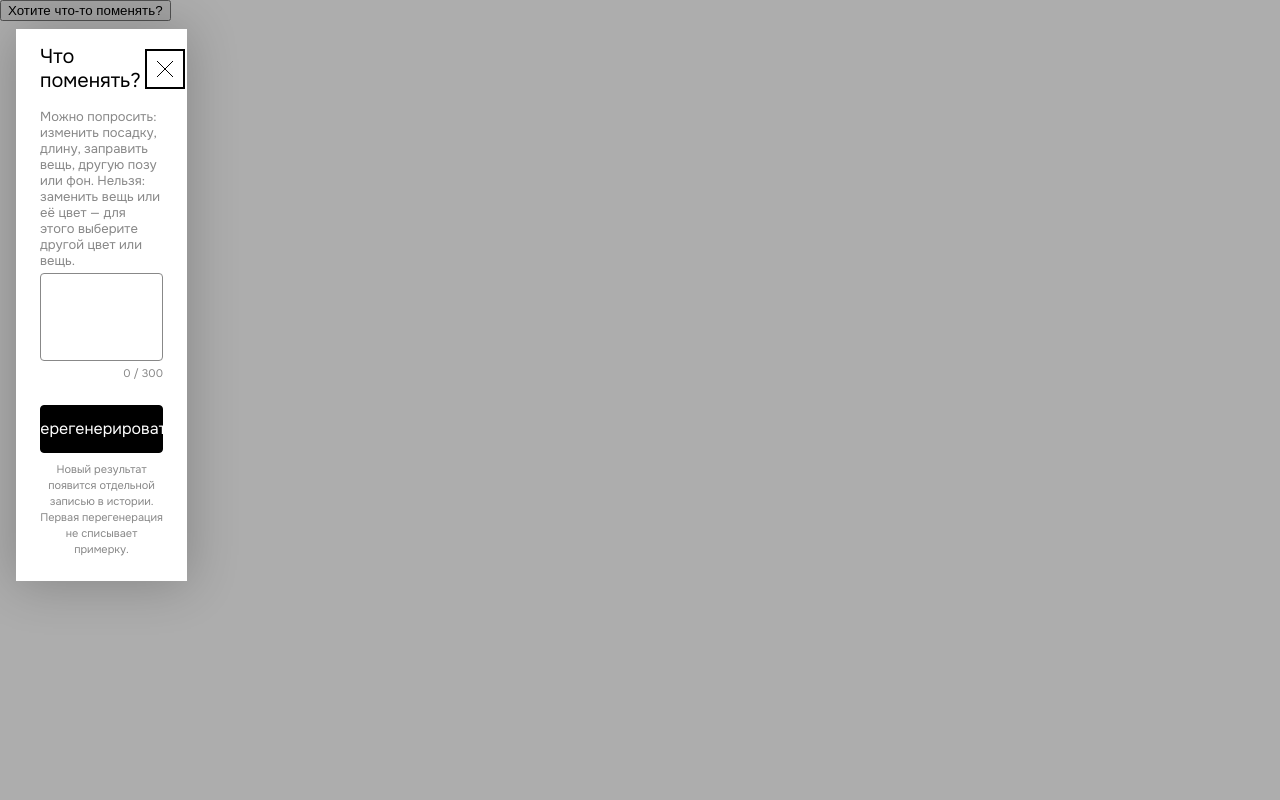
Scenario: RegeneratePopover › shows the reason of a refused comment (P27)
The image size is (1280, 800).
Type "добавь друга" into the text box named "Что поменять".
click(102, 317); type("добавь друга")  # box [40,273,163,361]
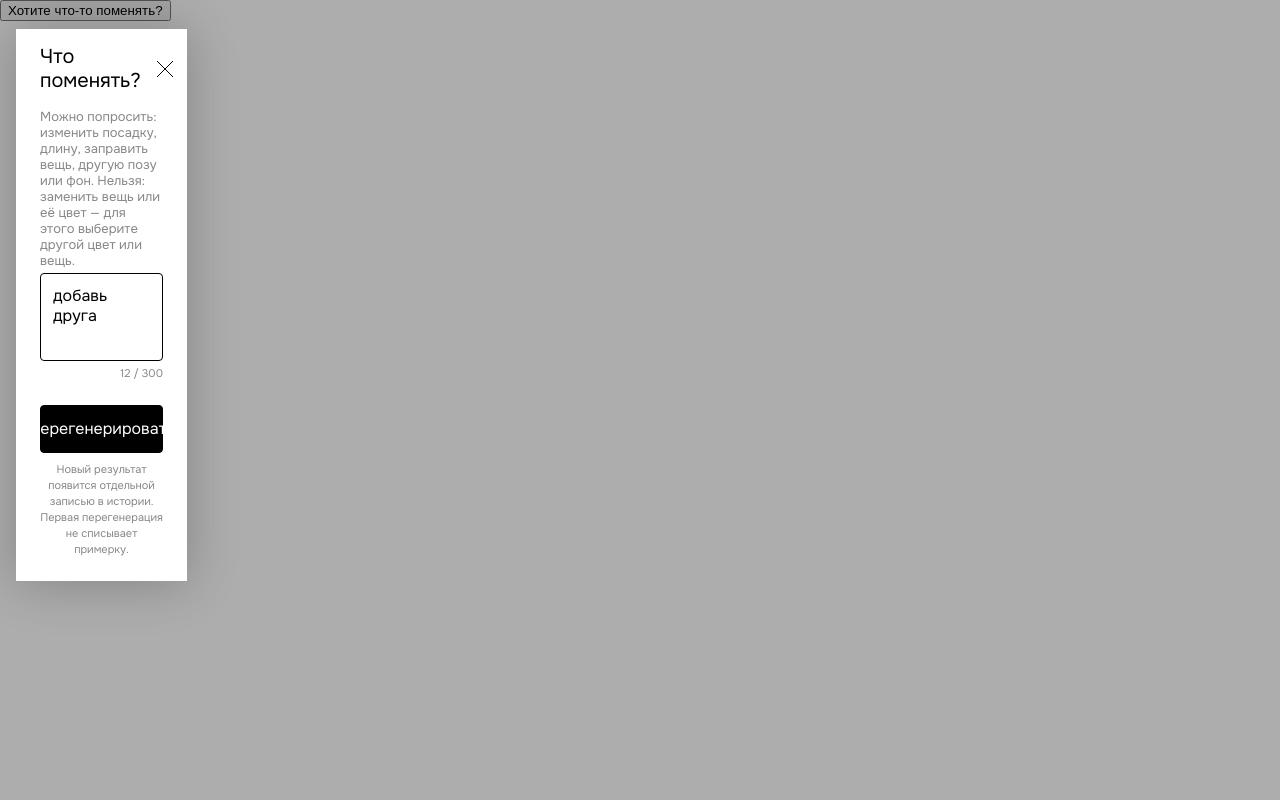
Click the button "Перегенерировать".
click(102, 429)  # box [40,405,163,453]
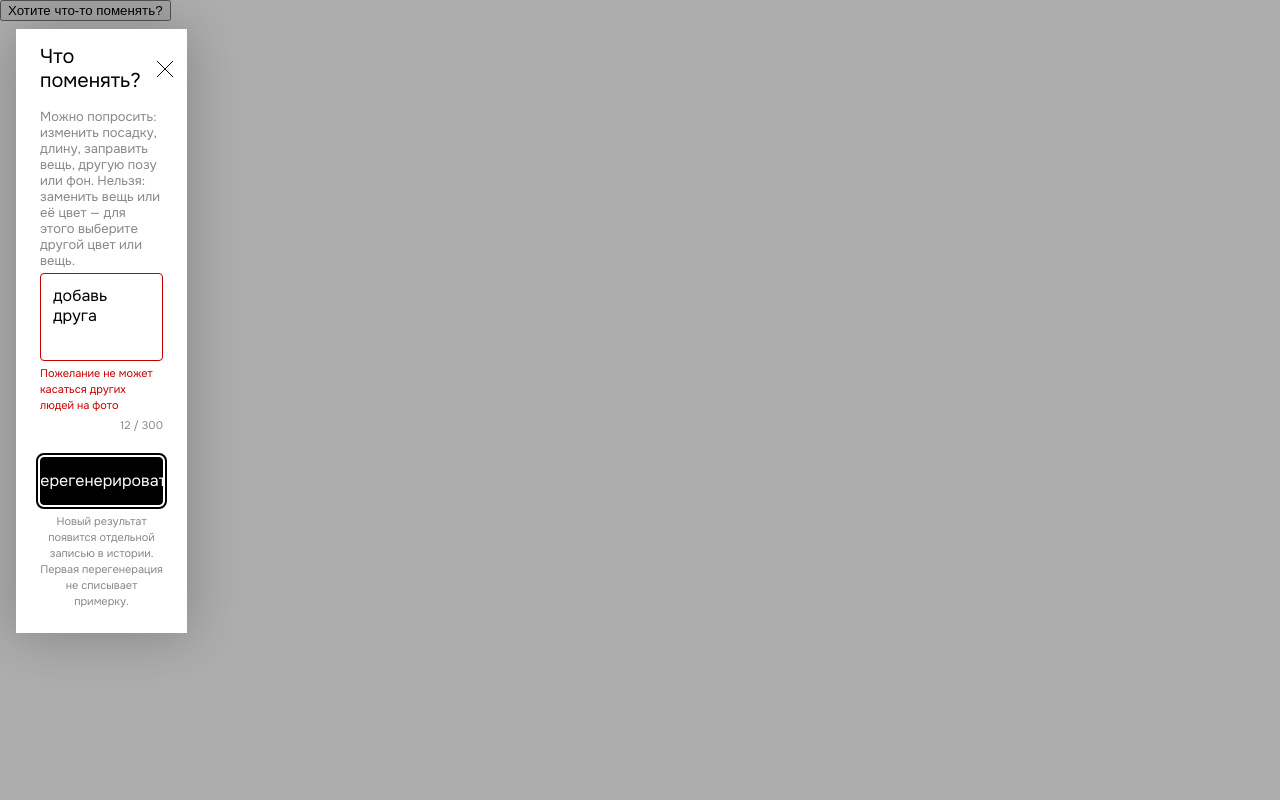
Result: the message reads "Пожелание не может касаться других людей на фото" at [40,366,153,412]
